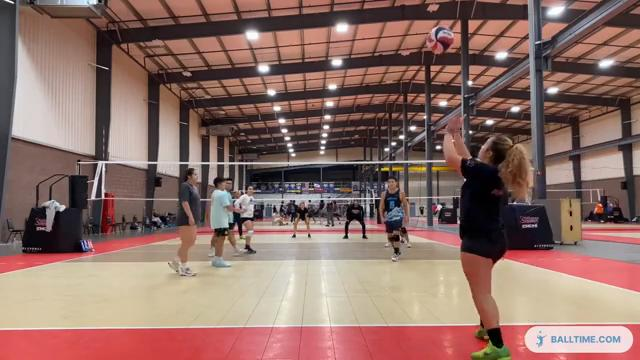battuta: (434, 109, 528, 359)
